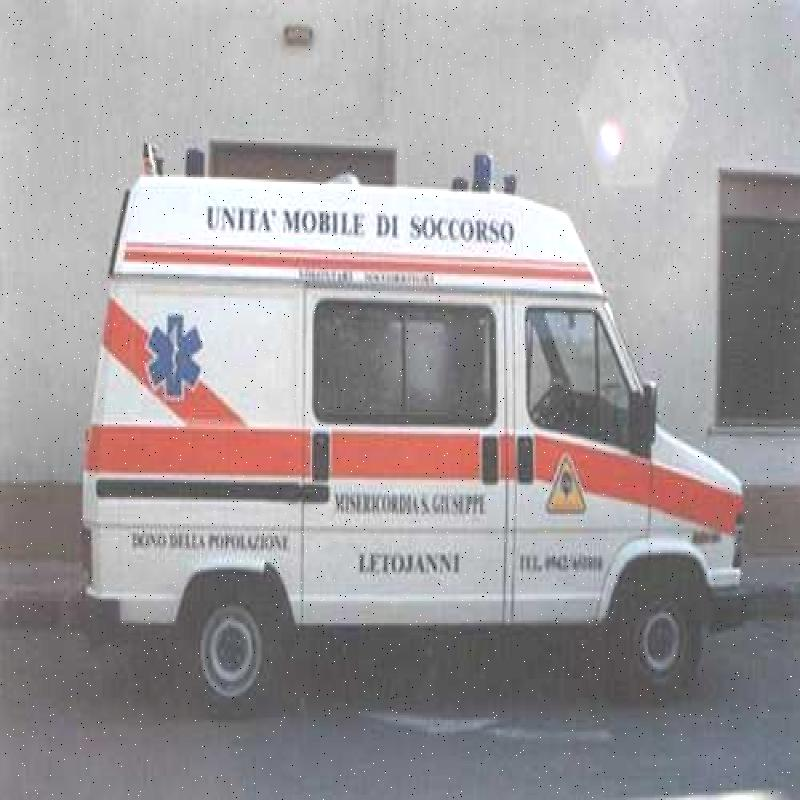AmbulanceSiren: (470, 141, 501, 205)
